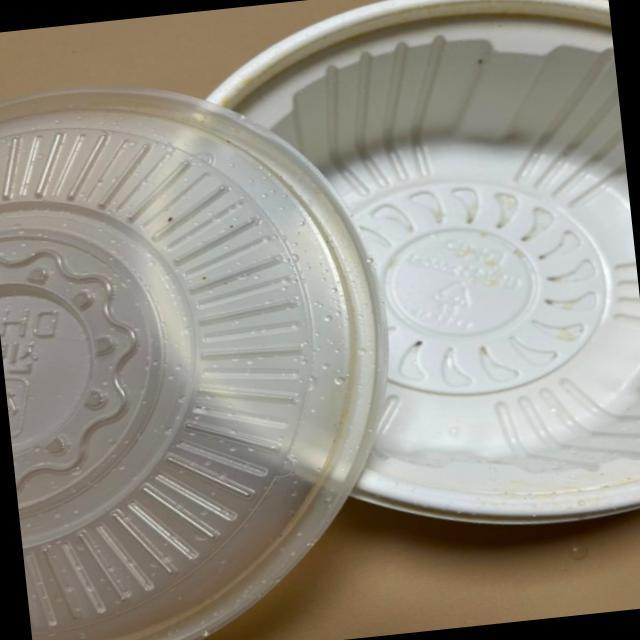container: (146, 0, 640, 544)
